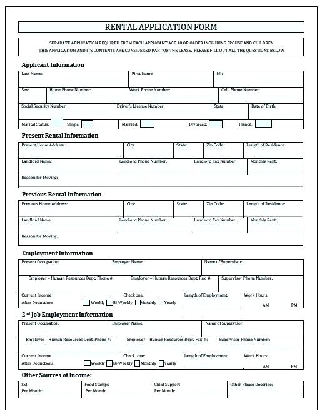checkbox: (253, 117, 273, 129), (49, 117, 65, 129), (208, 117, 224, 129), (138, 118, 156, 128), (81, 117, 94, 129), (104, 298, 114, 307), (82, 298, 91, 307), (83, 358, 92, 367), (105, 358, 114, 367), (134, 298, 142, 307), (133, 359, 141, 367), (158, 298, 165, 306), (158, 359, 164, 367)
textbox: (16, 231, 305, 247), (16, 173, 305, 188), (17, 289, 182, 310), (16, 352, 183, 372), (200, 317, 305, 339), (113, 100, 213, 123), (17, 69, 129, 89), (200, 257, 306, 278), (16, 334, 121, 355), (16, 274, 126, 294), (17, 141, 125, 161), (18, 199, 126, 219), (16, 101, 116, 122), (16, 157, 119, 177), (16, 215, 119, 235), (108, 256, 204, 277), (108, 318, 204, 339), (118, 334, 218, 354), (211, 68, 305, 89), (123, 273, 221, 293), (44, 84, 128, 107), (217, 84, 306, 105), (124, 85, 221, 104), (126, 69, 216, 89), (215, 335, 305, 355), (17, 319, 111, 338), (217, 273, 305, 293), (114, 155, 193, 177), (226, 378, 305, 400), (17, 258, 110, 276), (150, 379, 229, 400), (113, 215, 193, 235), (80, 379, 153, 400), (239, 289, 305, 310), (241, 139, 305, 160), (188, 155, 249, 177), (180, 289, 243, 310), (243, 198, 305, 219), (240, 350, 305, 370), (246, 214, 305, 236), (245, 156, 305, 177), (180, 351, 243, 371), (18, 380, 83, 399), (189, 215, 250, 235), (248, 101, 305, 121), (123, 140, 176, 160), (122, 198, 175, 218), (201, 139, 246, 161), (202, 198, 247, 219), (210, 101, 250, 121), (172, 139, 206, 161), (171, 198, 205, 218), (17, 85, 49, 105)
